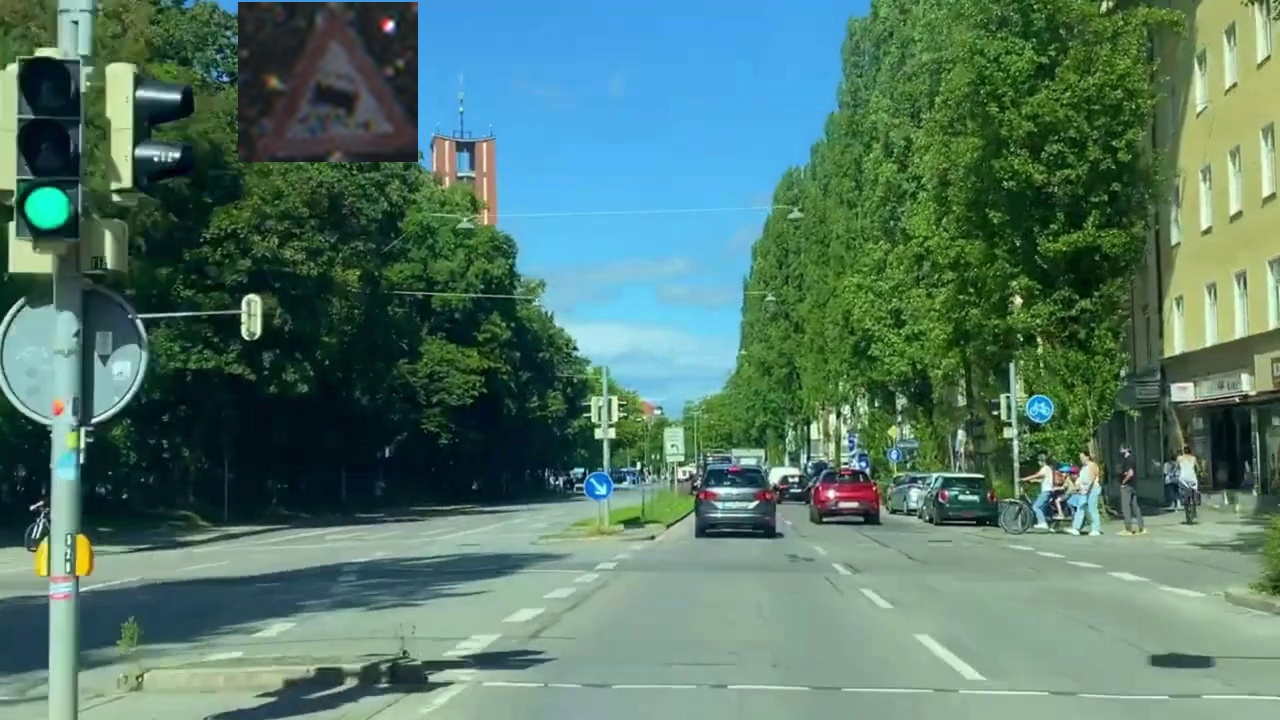Slippery: (238, 2, 418, 162)
